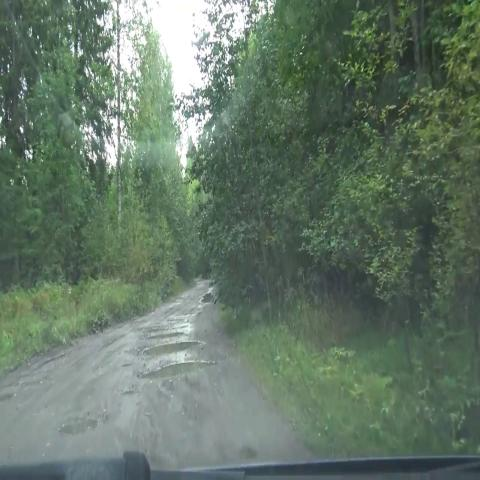pothole: (51, 403, 111, 446), (135, 359, 221, 383), (137, 336, 211, 355), (198, 275, 218, 315), (142, 327, 192, 341)
